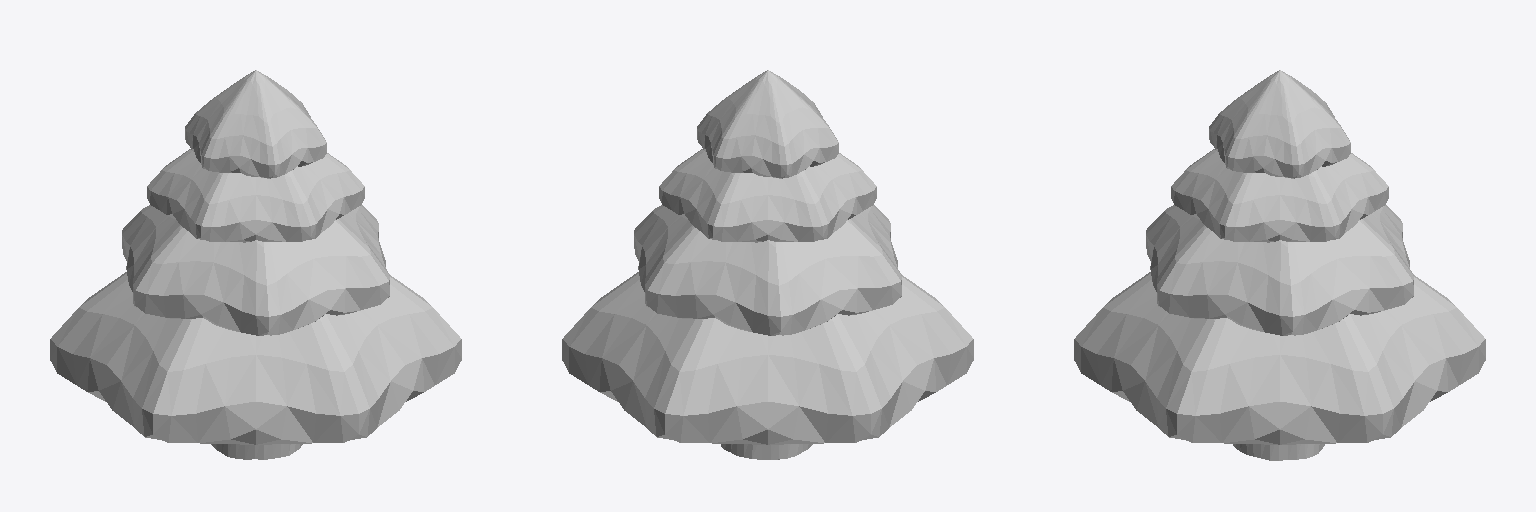
3 views of the same model, side by side, from view 1: azimuth 30°, elevation 25°; view 2: azimuth 150°, elevation 25°; view 3: azimuth 270°, elevation 25° (orthographic).
Visible parts, largest first — view 1: Pine, Trunk; view 2: Pine, Trunk; view 3: Pine, Trunk.
Part boxes in pixels (x1,y1,x2,y2): Pine: (50, 70, 461, 444); Trunk: (211, 444, 302, 459); Pine: (562, 70, 973, 444); Trunk: (721, 444, 812, 459); Pine: (1074, 70, 1485, 444); Trunk: (1233, 444, 1324, 460).
Bounding box in the file's own units: 2.13 × 2.4 × 2.41.